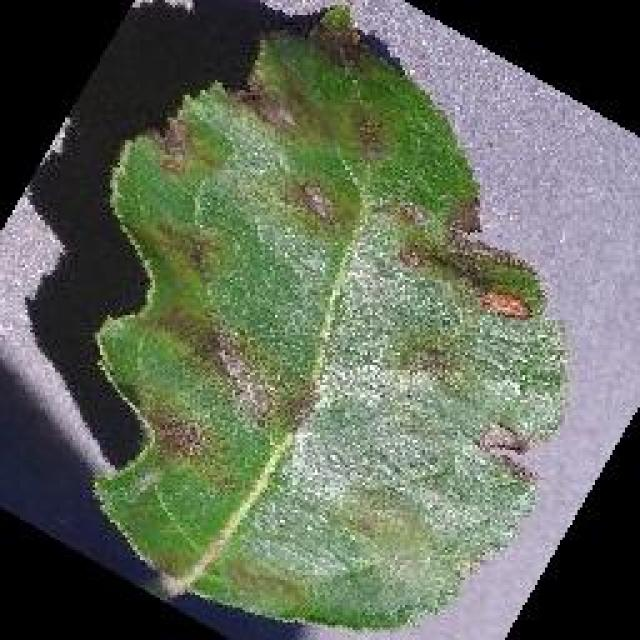apple scab disease: (88, 3, 570, 635)
